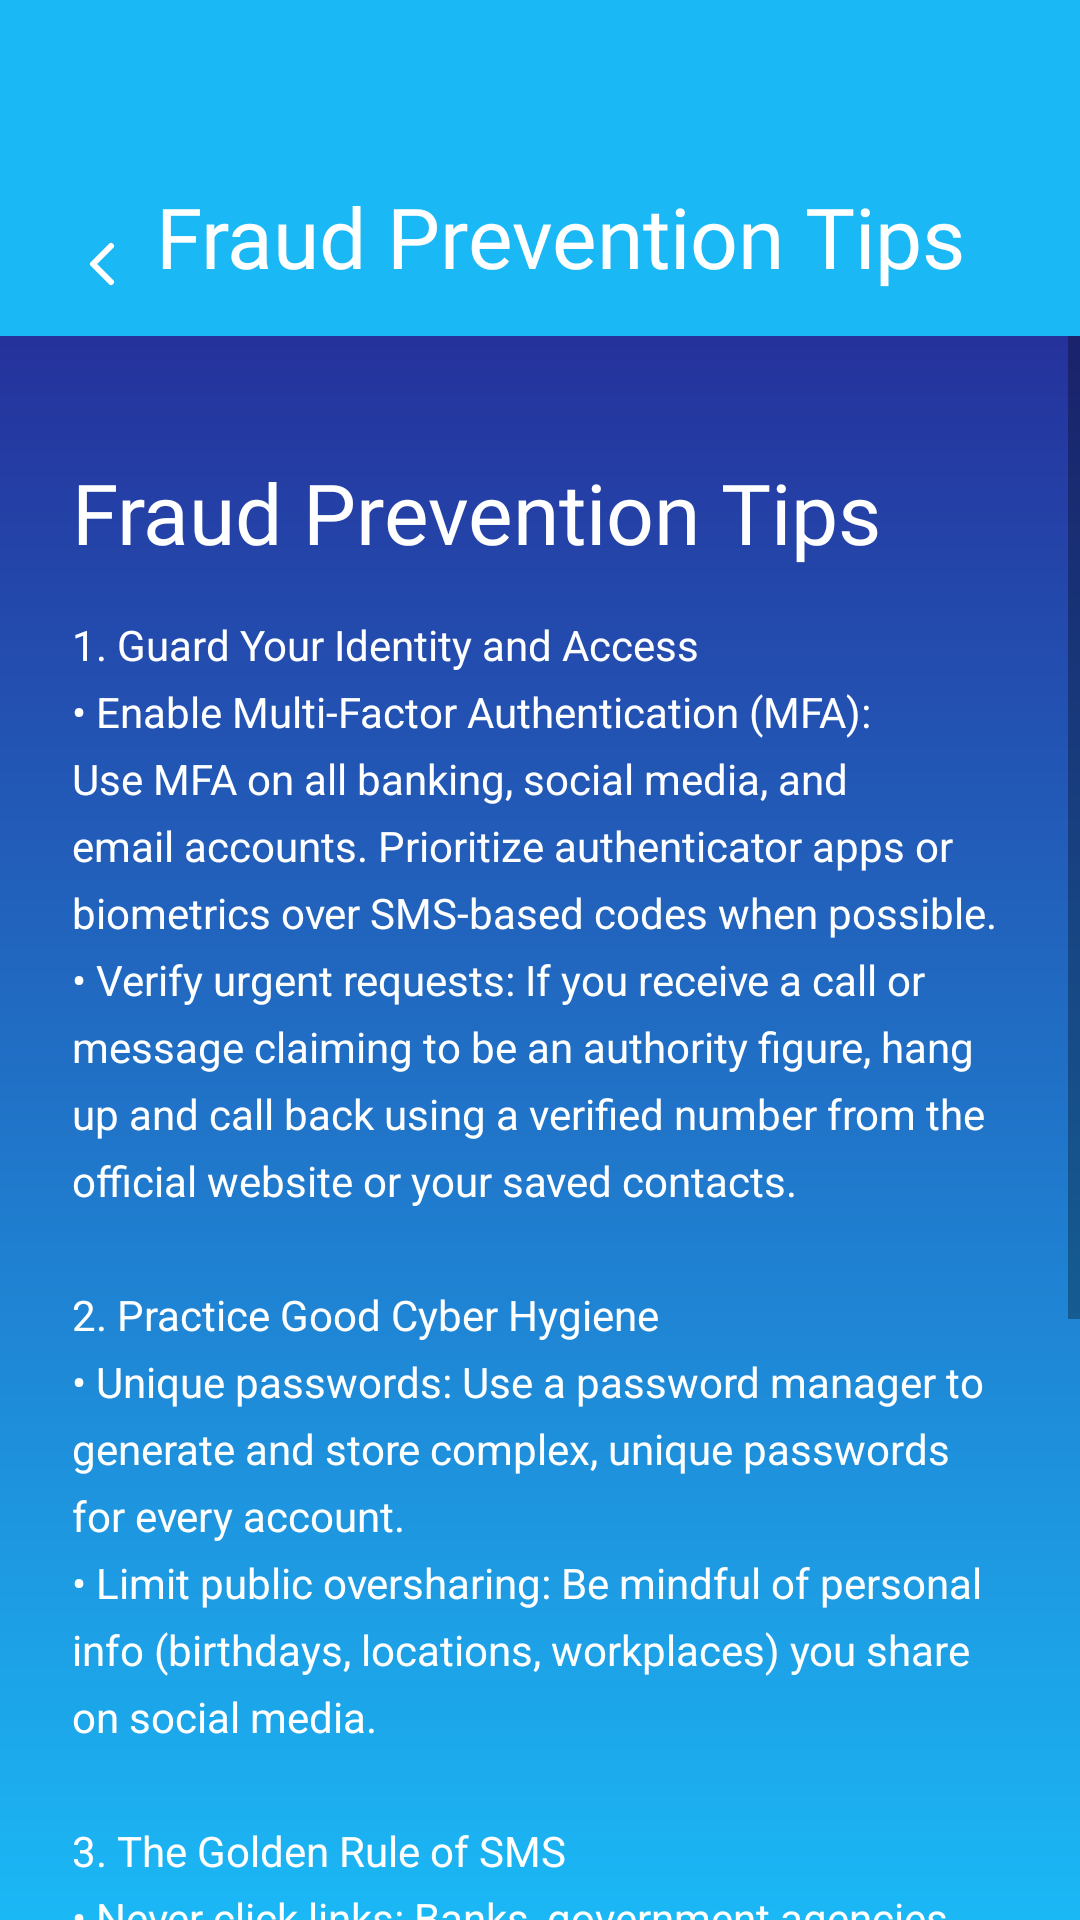

Where icons sit on this 1080w x 1920h app screen, as Rect(x1, y1, x2, y2):
Back: Rect(90, 243, 114, 285)
